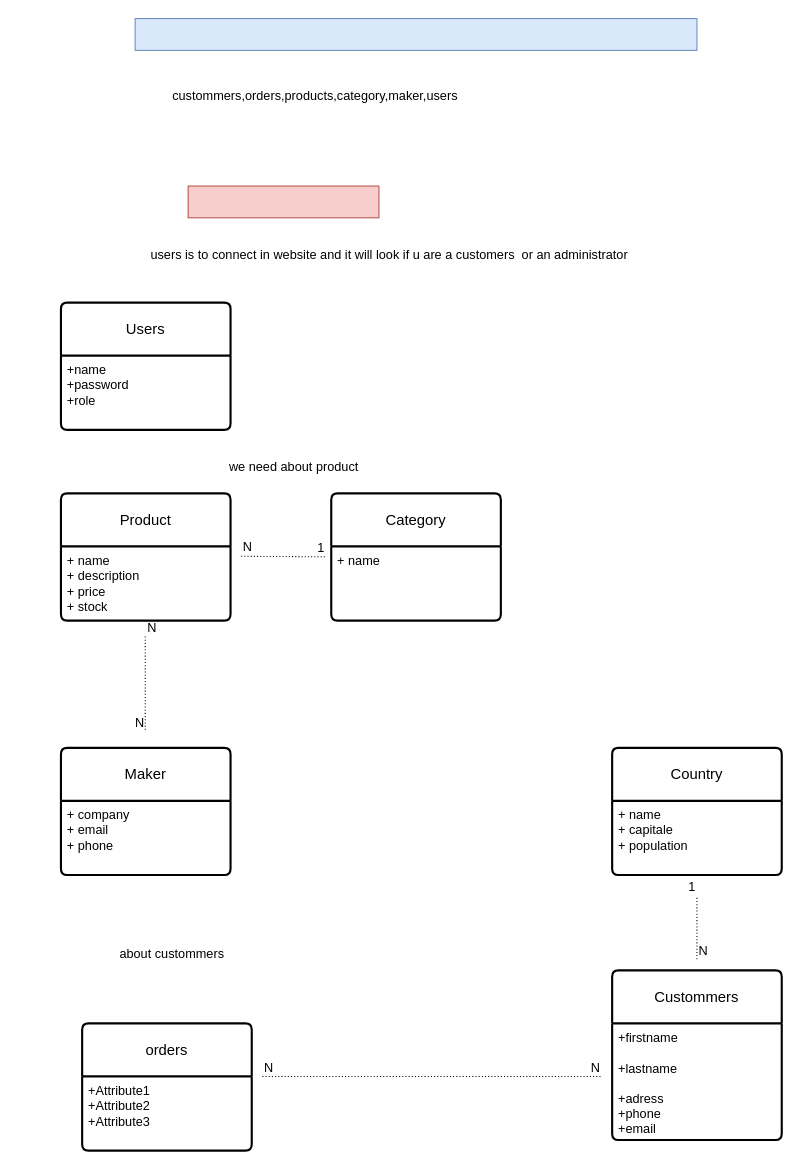
Some shapes in this 800 by 1171 pixel diagram are drawn without their labels. Each missing label, with the centre of its shape:
Les entités à envisager pour créer ce site Ecommerce: the point at 415,33
MCD: the point at 283,201
